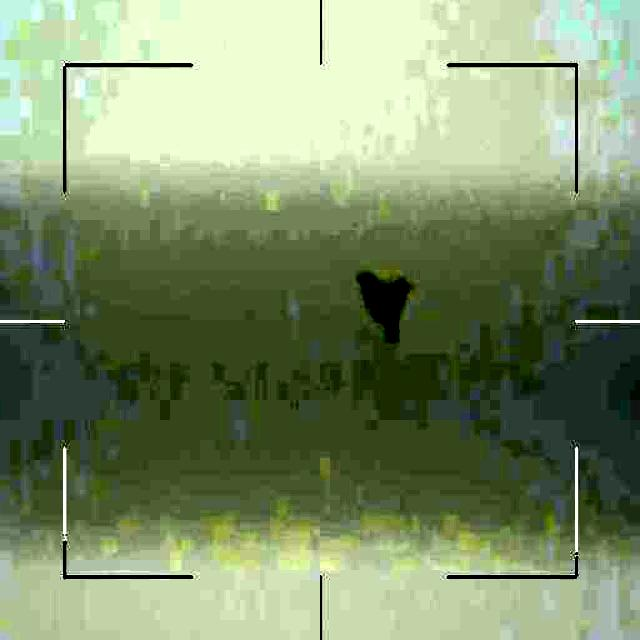bird: (360, 270, 416, 341)
